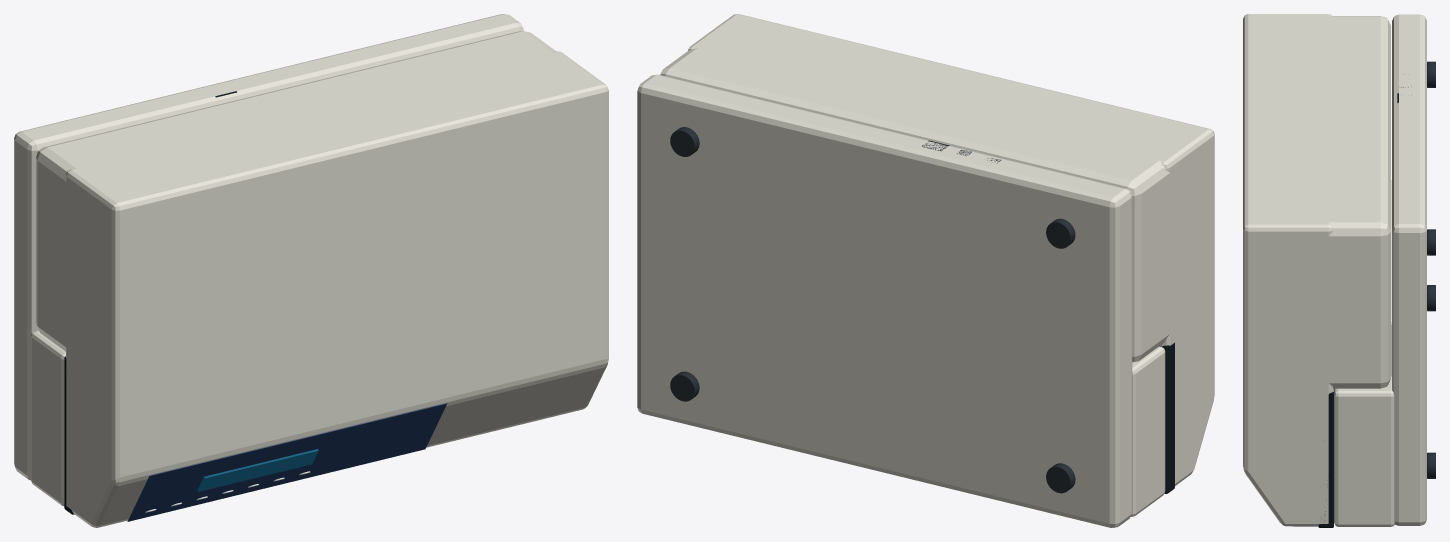
The model's file is molecular_devices_gemini_em.glb.
3 renders of one model, left to right at view 1: azimuth 30°, elevation 25°; view 2: azimuth 150°, elevation 25°; view 3: azimuth 270°, elevation 25°, orthographic. The views are drawn at different scales.
Visible parts, largest first — view 1: Drawer front, Blue sloping control fascia, Green LCD; view 2: Drawer front, Isolating foot, Drawer cavity ceiling; view 3: Drawer front, Isolating foot, Drawer cavity ceiling.
Part boxes in pixels (bbox=[...]): Drawer front: bbox=[14, 14, 608, 527]; Blue sloping control fascia: bbox=[127, 403, 447, 521]; Green LCD: bbox=[197, 449, 318, 491]; Drawer front: bbox=[637, 14, 1214, 527]; Isolating foot: bbox=[670, 127, 1075, 493]; Drawer cavity ceiling: bbox=[922, 140, 1174, 493]; Drawer front: bbox=[1243, 14, 1426, 526]; Isolating foot: bbox=[1427, 61, 1435, 478]; Drawer cavity ceiling: bbox=[1318, 87, 1408, 527].
Bounding box in the file's own units: 0.58 × 0.3802 × 0.22.
